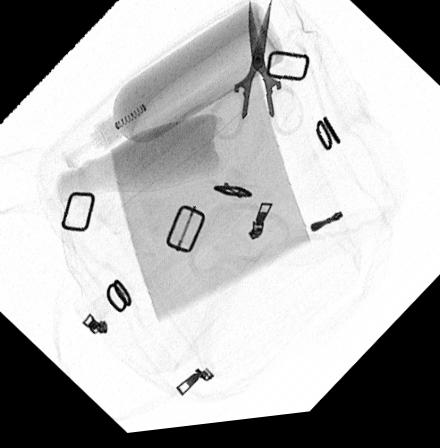Scissors: (209, 2, 306, 146)
